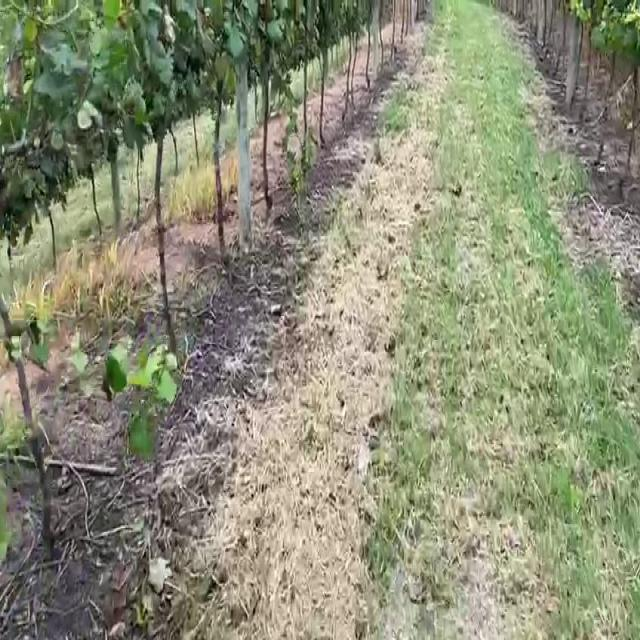tree trunk: (155, 132, 175, 352), (234, 49, 250, 251)
